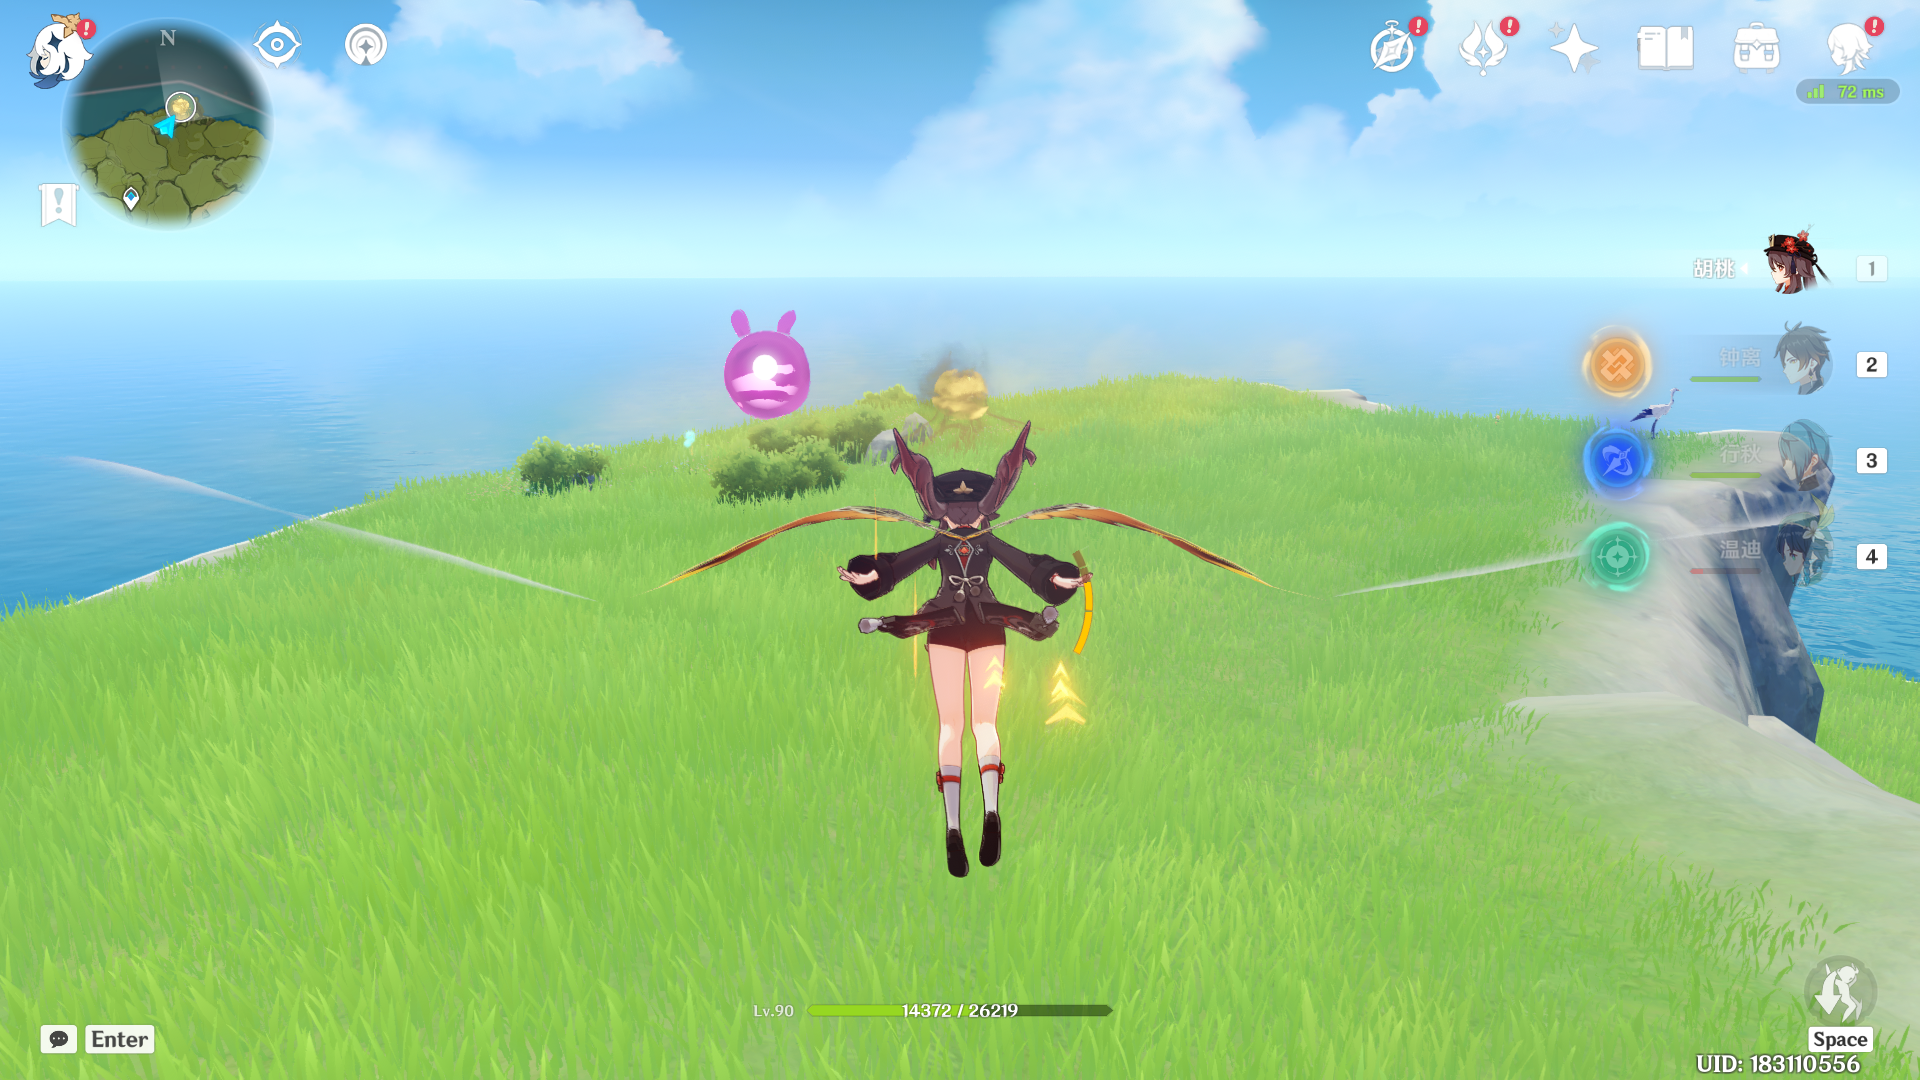character: (811, 433, 1151, 885)
